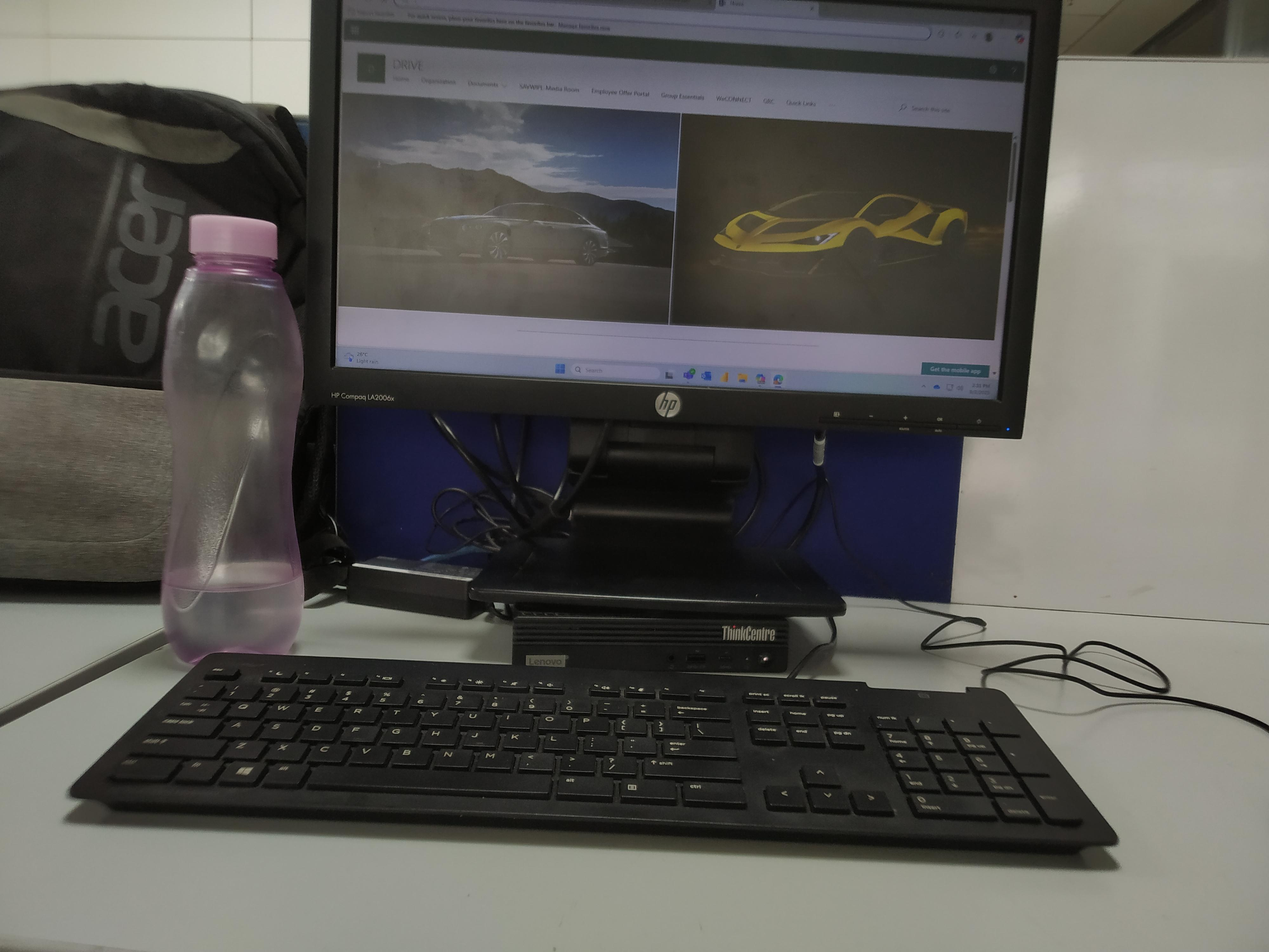bottle: (146, 195, 322, 673)
desktop: (301, 0, 1080, 619)
keyboard: (56, 644, 1132, 871)
